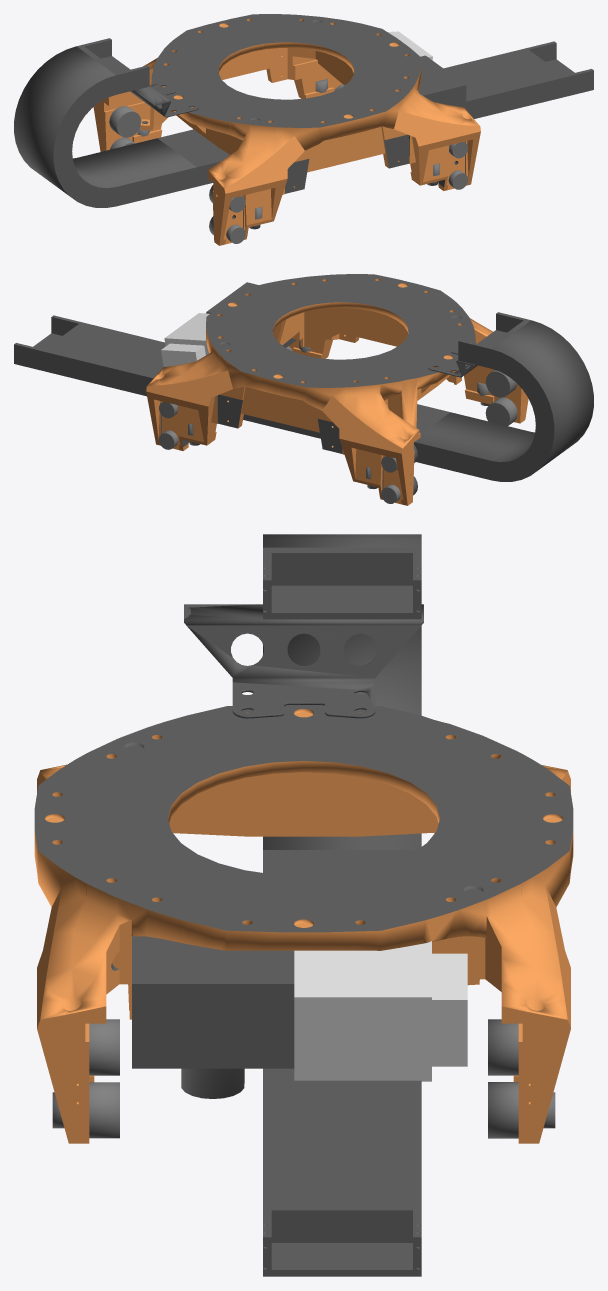
3 views of the same model, one above another, from view 1: azimuth 30°, elevation 25°; view 2: azimuth 150°, elevation 25°; view 3: azimuth 270°, elevation 25° (orthographic). The views are drawn at different scales.
Parts seen in each view (by area): view 1: link_1; view 2: link_1; view 3: link_1.
Part boxes in pixels (x1,y1,x2,y2): link_1: [14, 14, 593, 245]; link_1: [14, 274, 593, 505]; link_1: [34, 534, 573, 1276].
Size of the model in its own units: 2.43 by 1.05 by 0.652.
